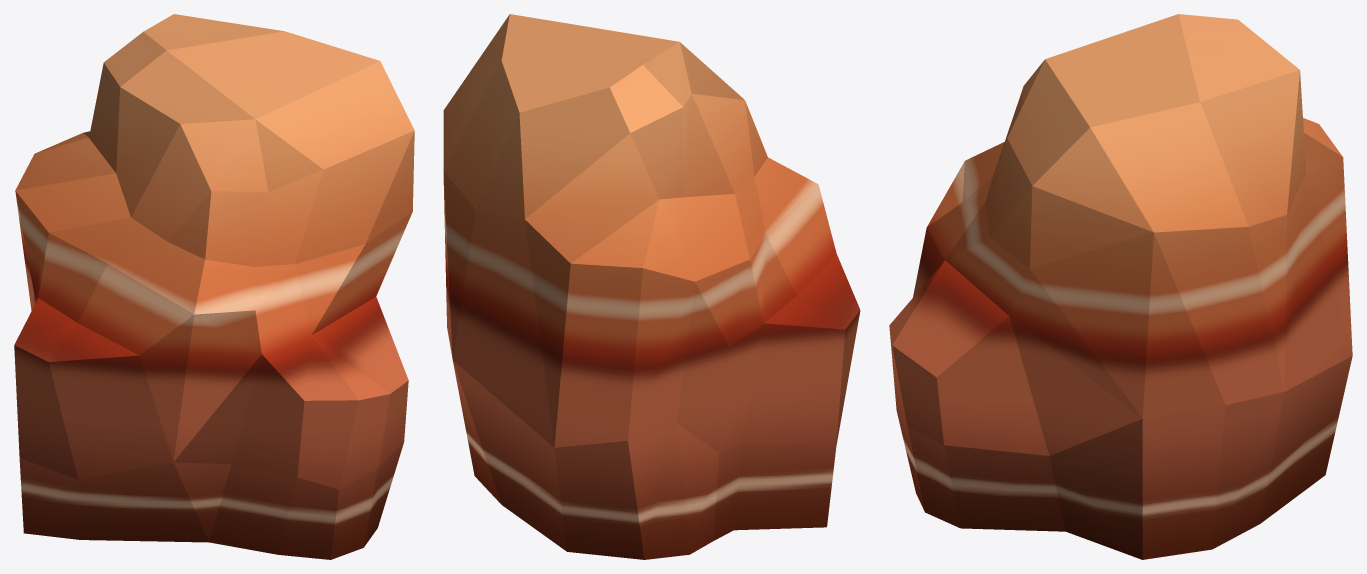
File: RockCanyon2.fbx
3 renders of one model, left to right at view 1: azimuth 30°, elevation 25°; view 2: azimuth 150°, elevation 25°; view 3: azimuth 270°, elevation 25°, orthographic. The views are drawn at different scales.
Visible parts, largest first — view 1: RockCanyon2; view 2: RockCanyon2; view 3: RockCanyon2.
Boxes of the visible parts, <box> form: RockCanyon2: <box>14,14,414,559</box>; RockCanyon2: <box>443,14,860,559</box>; RockCanyon2: <box>889,14,1352,559</box>.
Bounding box in the file's own units: 56.51 × 60.64 × 55.52.
